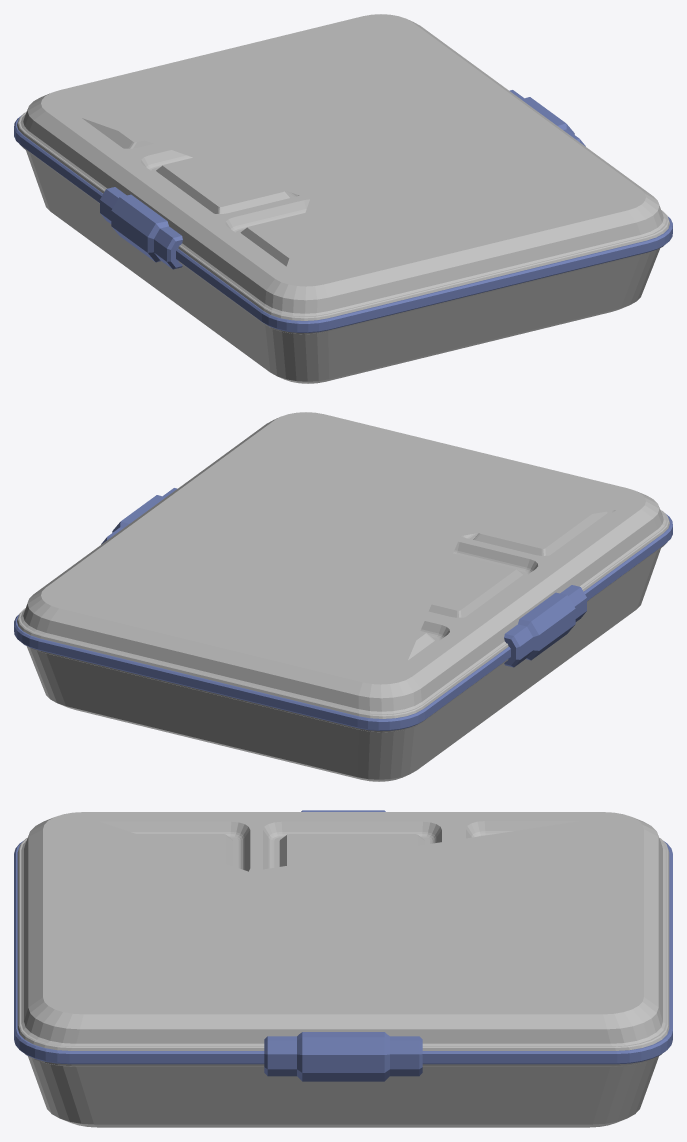
File: 20260914_LunchBox_V001.fbx
3 views of the same model, one above another, from view 1: azimuth 30°, elevation 25°; view 2: azimuth 150°, elevation 25°; view 3: azimuth 270°, elevation 25° (orthographic). The views are drawn at different scales.
Parts seen in each view (by area): view 1: Cube, Cube.001, Cube.009, Cube.004, Cube.003; view 2: Cube, Cube.001, Cube.009, Cube.004, Cube.003; view 3: Cube, Cube.001, Cube.009, Cube.003.
Boxes of the visible parts, x1,y1,x2,y2 form: Cube: (17,14,669,320); Cube.001: (19,144,663,383); Cube.009: (14,115,672,332); Cube.004: (100,187,182,269); Cube.003: (509,90,585,146); Cube: (17,412,669,718); Cube.001: (23,542,667,781); Cube.009: (14,513,672,730); Cube.004: (504,585,586,667); Cube.003: (101,488,177,544); Cube: (17,812,669,1050); Cube.001: (25,1054,661,1127); Cube.009: (14,841,672,1064); Cube.003: (264,1032,422,1081).
Bounding box in the file's own units: 706 × 165 × 833.
